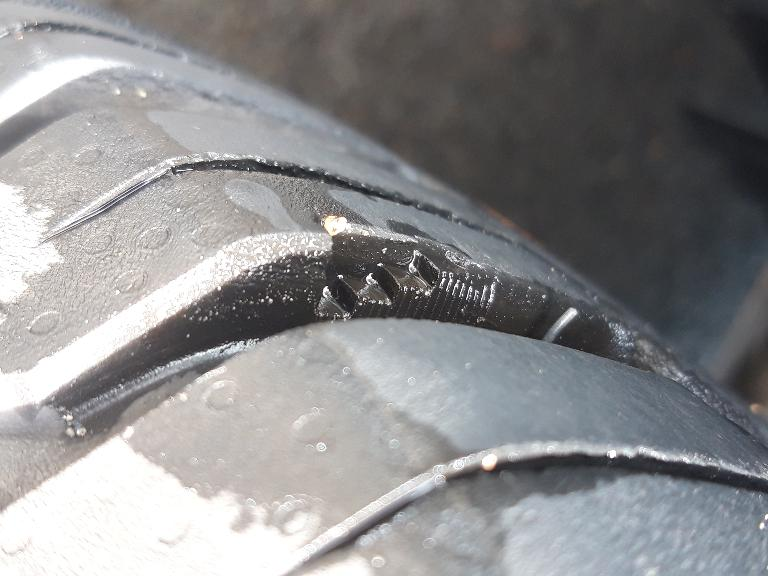temoin:80: (309, 209, 502, 334)
